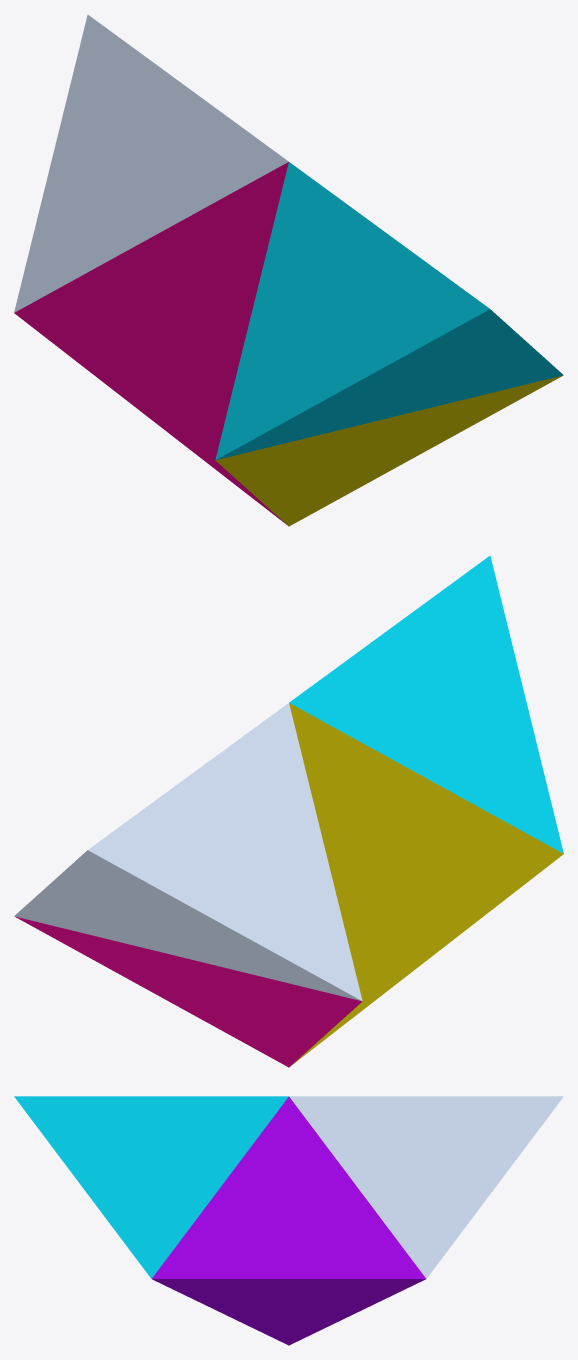
Rendered from TetragonalDisphenoidal_1.glb.
3 views of the same model, one above another, from view 1: azimuth 30°, elevation 25°; view 2: azimuth 150°, elevation 25°; view 3: azimuth 270°, elevation 25° (orthographic). The views are drawn at different scales.
Size of the model in its own units: 4 by 4 by 8.
